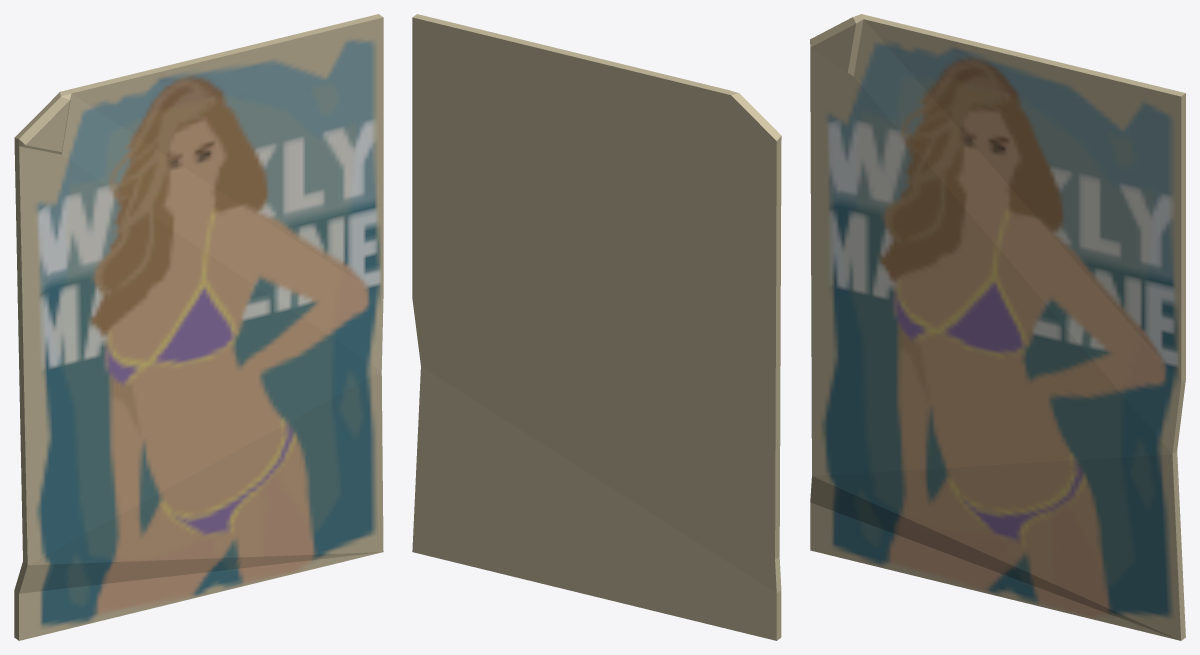
Rendered from SM_Prop_Poster_Girl_01.glb.
3 views of the same model, side by side, from view 1: azimuth 30°, elevation 25°; view 2: azimuth 150°, elevation 25°; view 3: azimuth 330°, elevation 25° (orthographic).
Visible parts, largest first — view 1: SM_Prop_Poster_Girl_01; view 2: SM_Prop_Poster_Girl_01; view 3: SM_Prop_Poster_Girl_01.
Boxes of the visible parts, <box> form: SM_Prop_Poster_Girl_01: <box>14,14,383,640</box>; SM_Prop_Poster_Girl_01: <box>412,14,781,640</box>; SM_Prop_Poster_Girl_01: <box>810,14,1185,640</box>.
Size of the model in its own units: 0.6918 by 0.9697 by 0.0266.
1 material, 1 textured.
